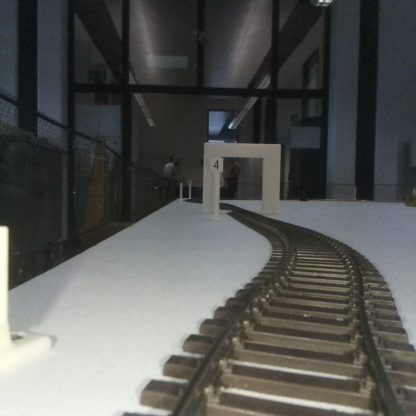white-info-4: (210, 156, 223, 220)
